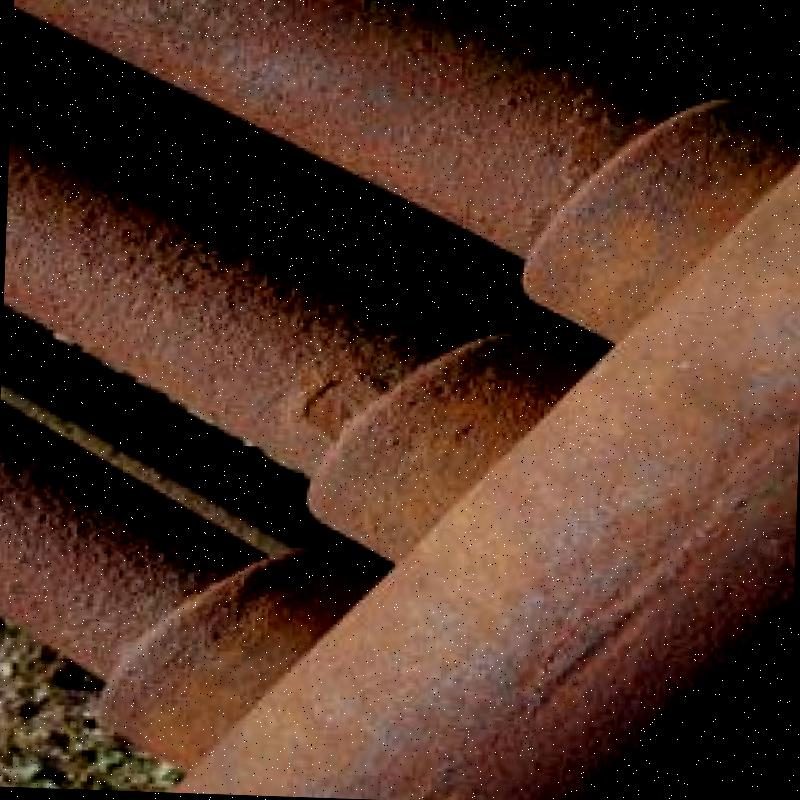corrosion: (81, 1, 800, 793), (0, 347, 395, 770)
